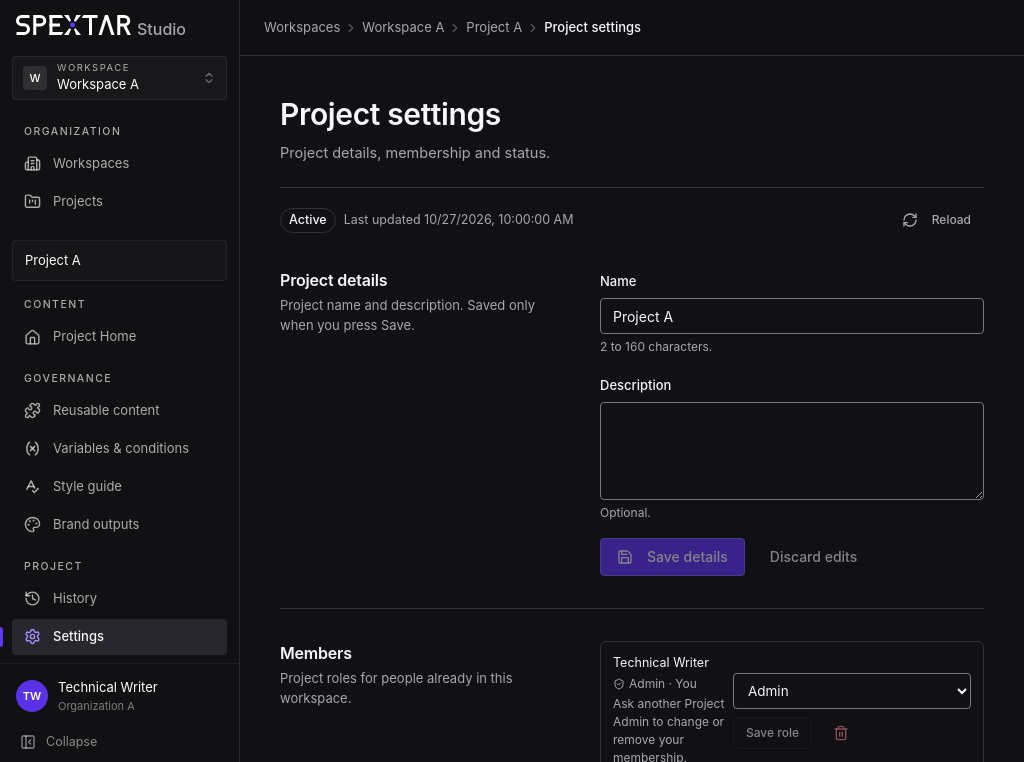
Test: Project Settings route › archives and restores only after confirmation; unsaved detail edits block status changes
expect the field with test id "input-name" holds "Project A": met, box x1=600 y1=298 x2=984 y2=334
Type "Unsaved" into the text box with test id "input-description" at coordinates (792, 451), box x1=600 y1=402 x2=984 y2=500
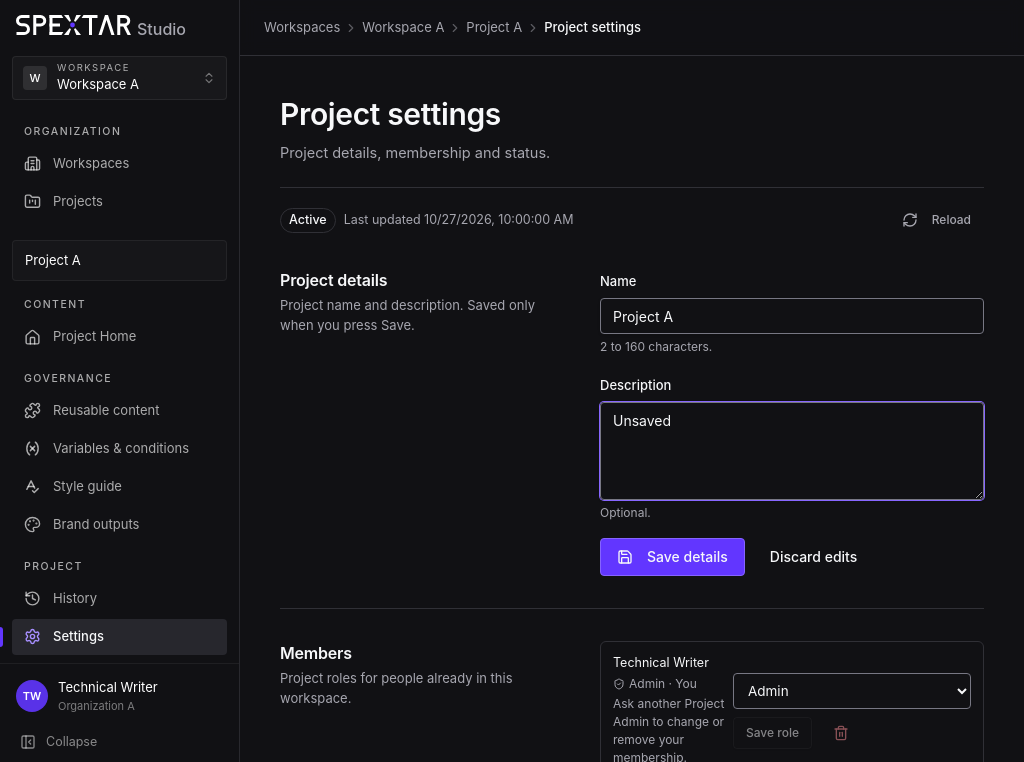
Click the button with test id "button-reset-details" at coordinates (814, 557), box x1=753 y1=538 x2=874 y2=576
(page scrolled)
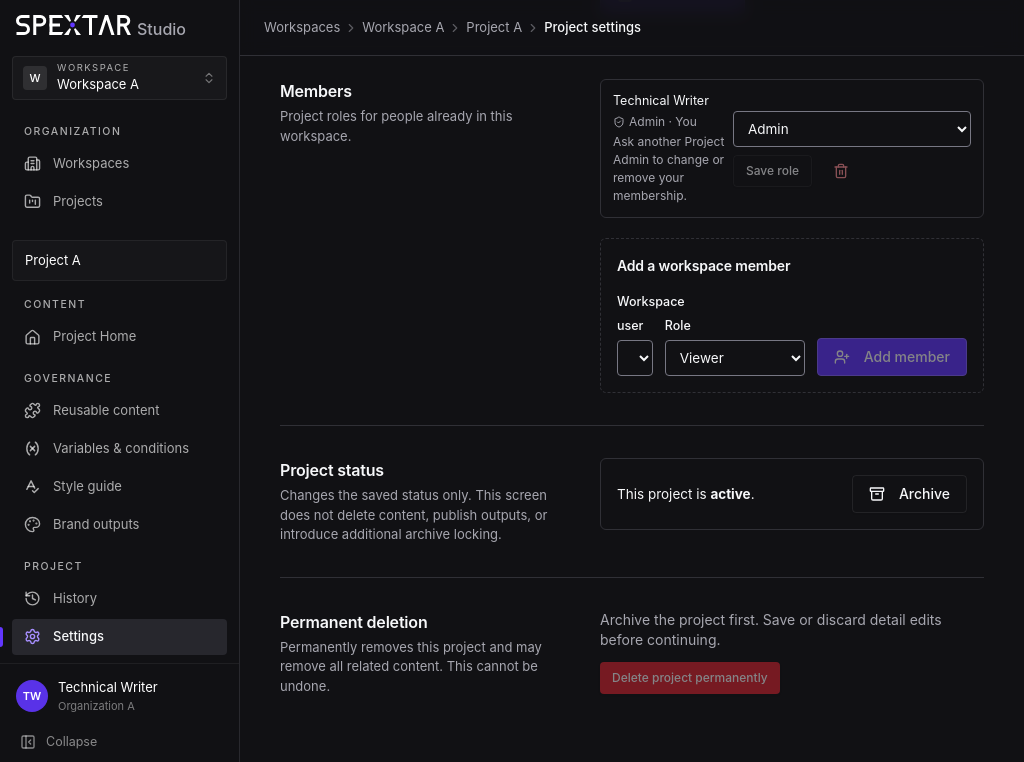
Click the button with test id "button-archive" at coordinates (909, 494), box x1=852 y1=475 x2=967 y2=513
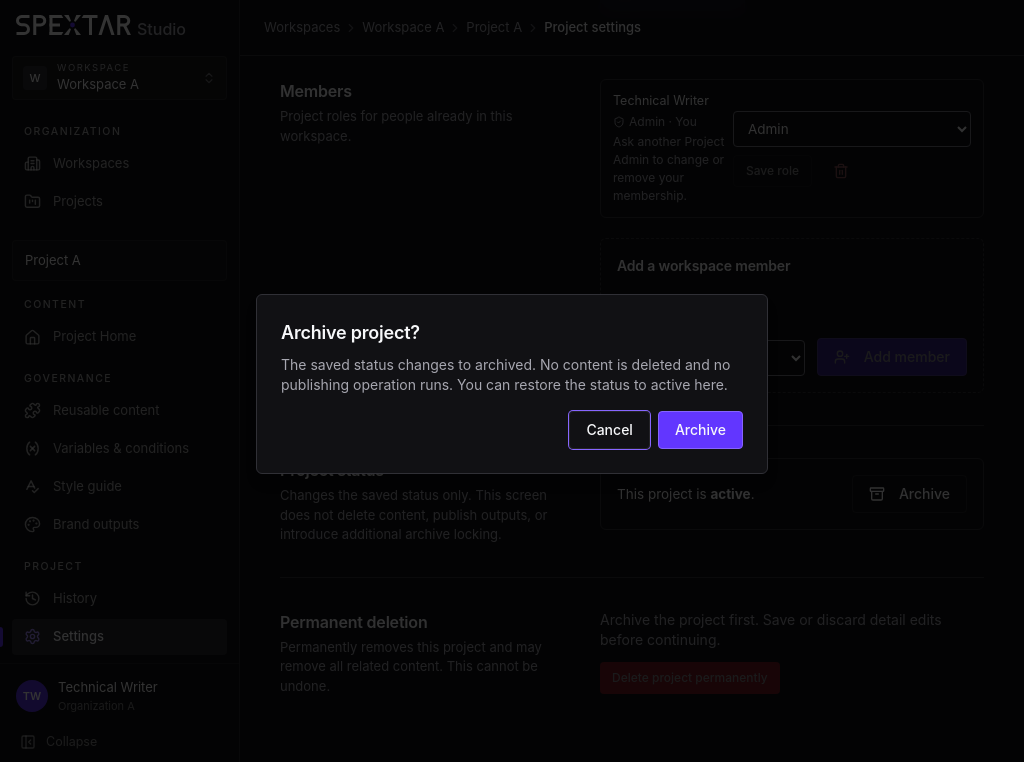
expect the text "active" is shown: met, box x1=710 y1=486 x2=751 y2=502
Click the button with test id "button-confirm" at coordinates (700, 430), box x1=658 y1=411 x2=743 y2=449
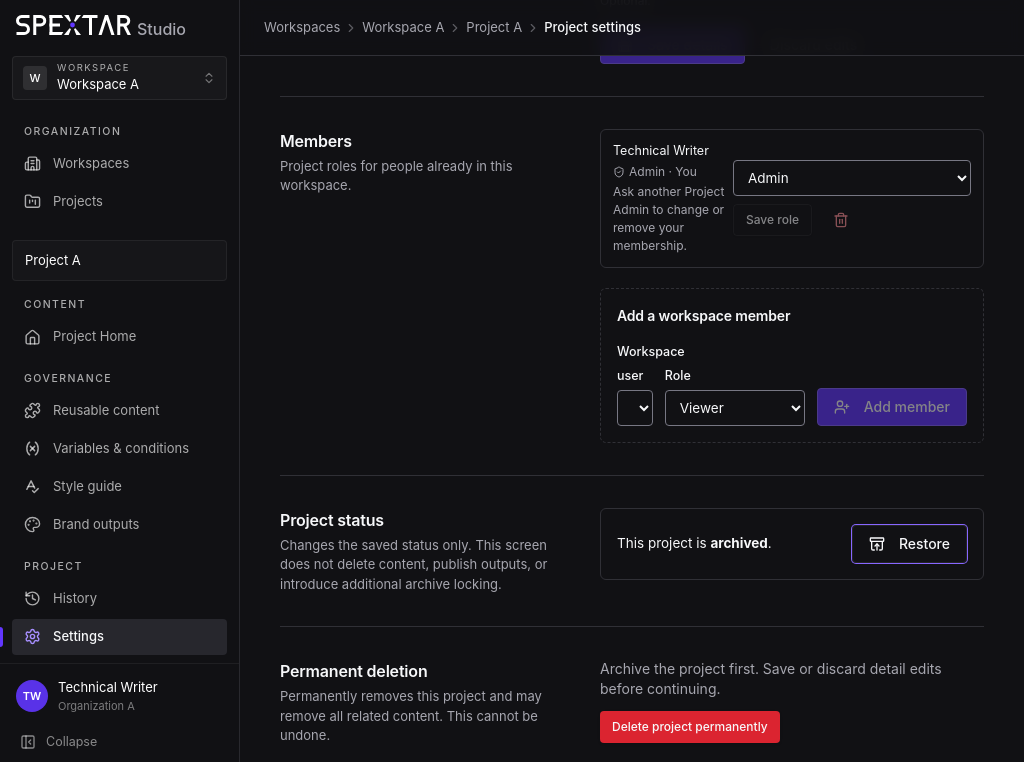
expect the dialog with test id "dialog-confirm" is gone: met
expect the button with test id "button-restore" is shown: met
expect the text "archived" is shown: met, box x1=710 y1=535 x2=768 y2=551
Click the button with test id "button-restore" at coordinates (909, 544), box x1=852 y1=524 x2=967 y2=562
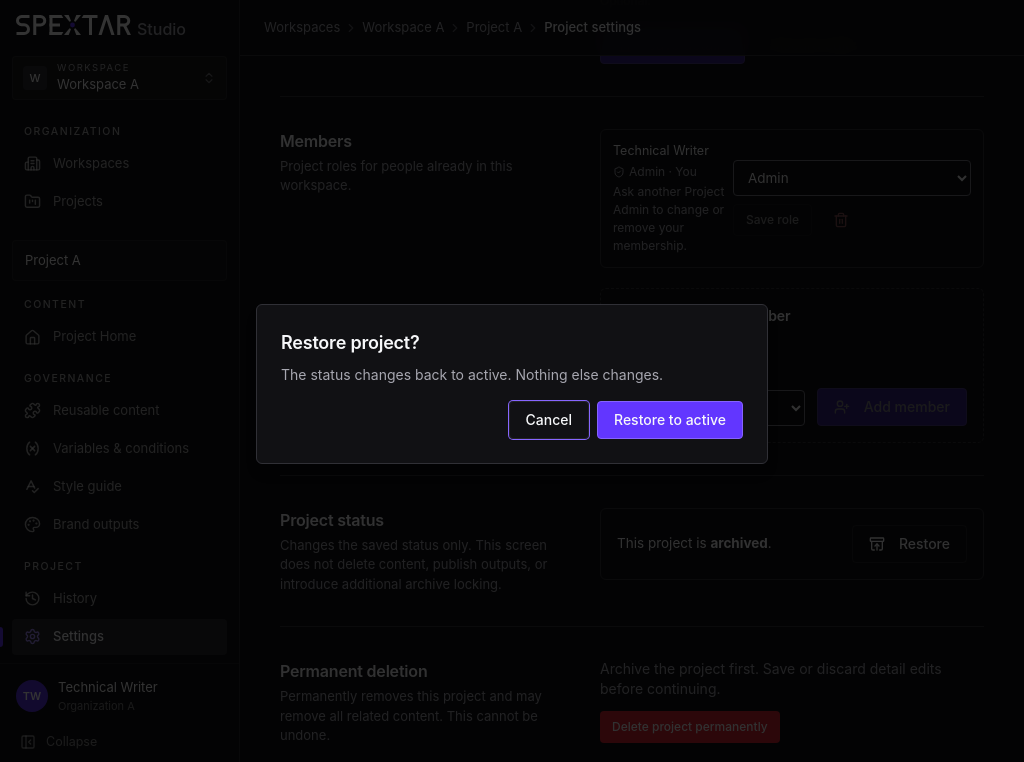
Click the button with test id "button-confirm" at coordinates (670, 420), box x1=597 y1=401 x2=743 y2=439
(page scrolled)
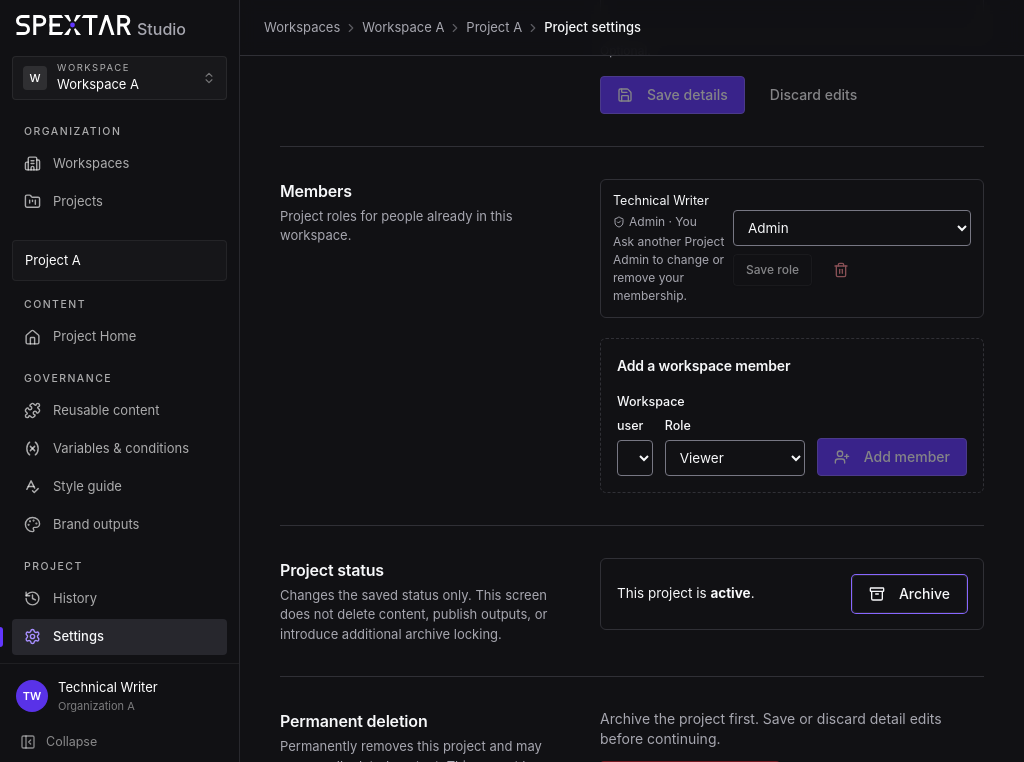
expect the dialog with test id "dialog-confirm" is gone: met
expect the button with test id "button-archive" is shown: met, box x1=852 y1=574 x2=967 y2=612
expect the text "active" is shown: met, box x1=710 y1=585 x2=751 y2=601
